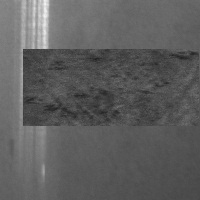rolled-in_scale: (23, 49, 199, 126)
scratches: (18, 1, 50, 181)
